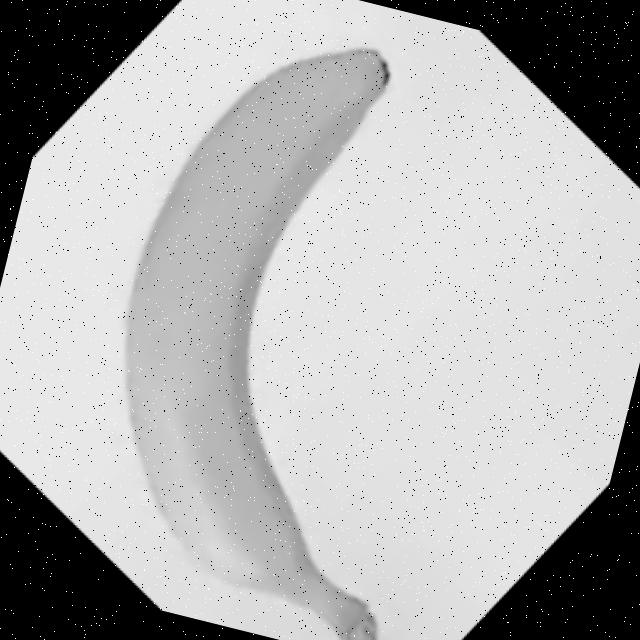Ripe: (59, 3, 503, 640)
